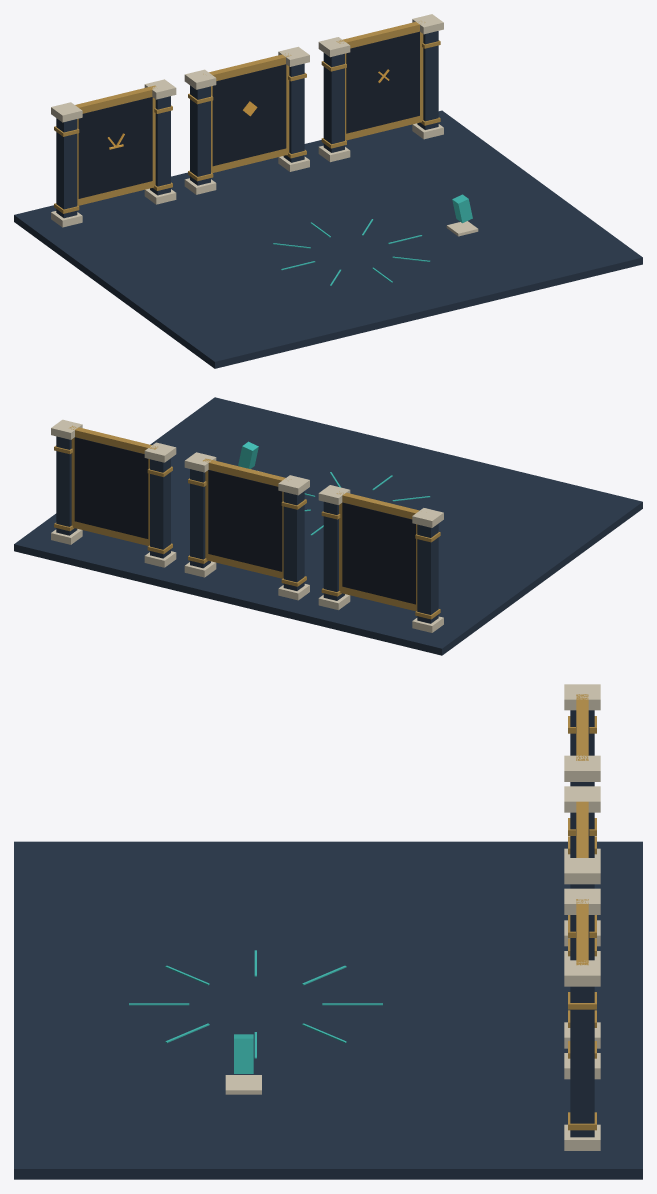
File: memory_chamber.glb
The picture shows the model from 3 angles, top to bottom: view 1: azimuth 30°, elevation 25°; view 2: azimuth 150°, elevation 25°; view 3: azimuth 270°, elevation 25°; orthographic projection. The views are drawn at different scales.
Visible parts, largest first — view 1: memory_chamber; view 2: memory_chamber; view 3: memory_chamber.
Boxes of the visible parts, left/top/right/bottom form: memory_chamber: left=14, top=14, right=642, bottom=368; memory_chamber: left=14, top=397, right=642, bottom=655; memory_chamber: left=14, top=684, right=642, bottom=1179.
Size of the model in its own units: 64 by 17 by 52.
